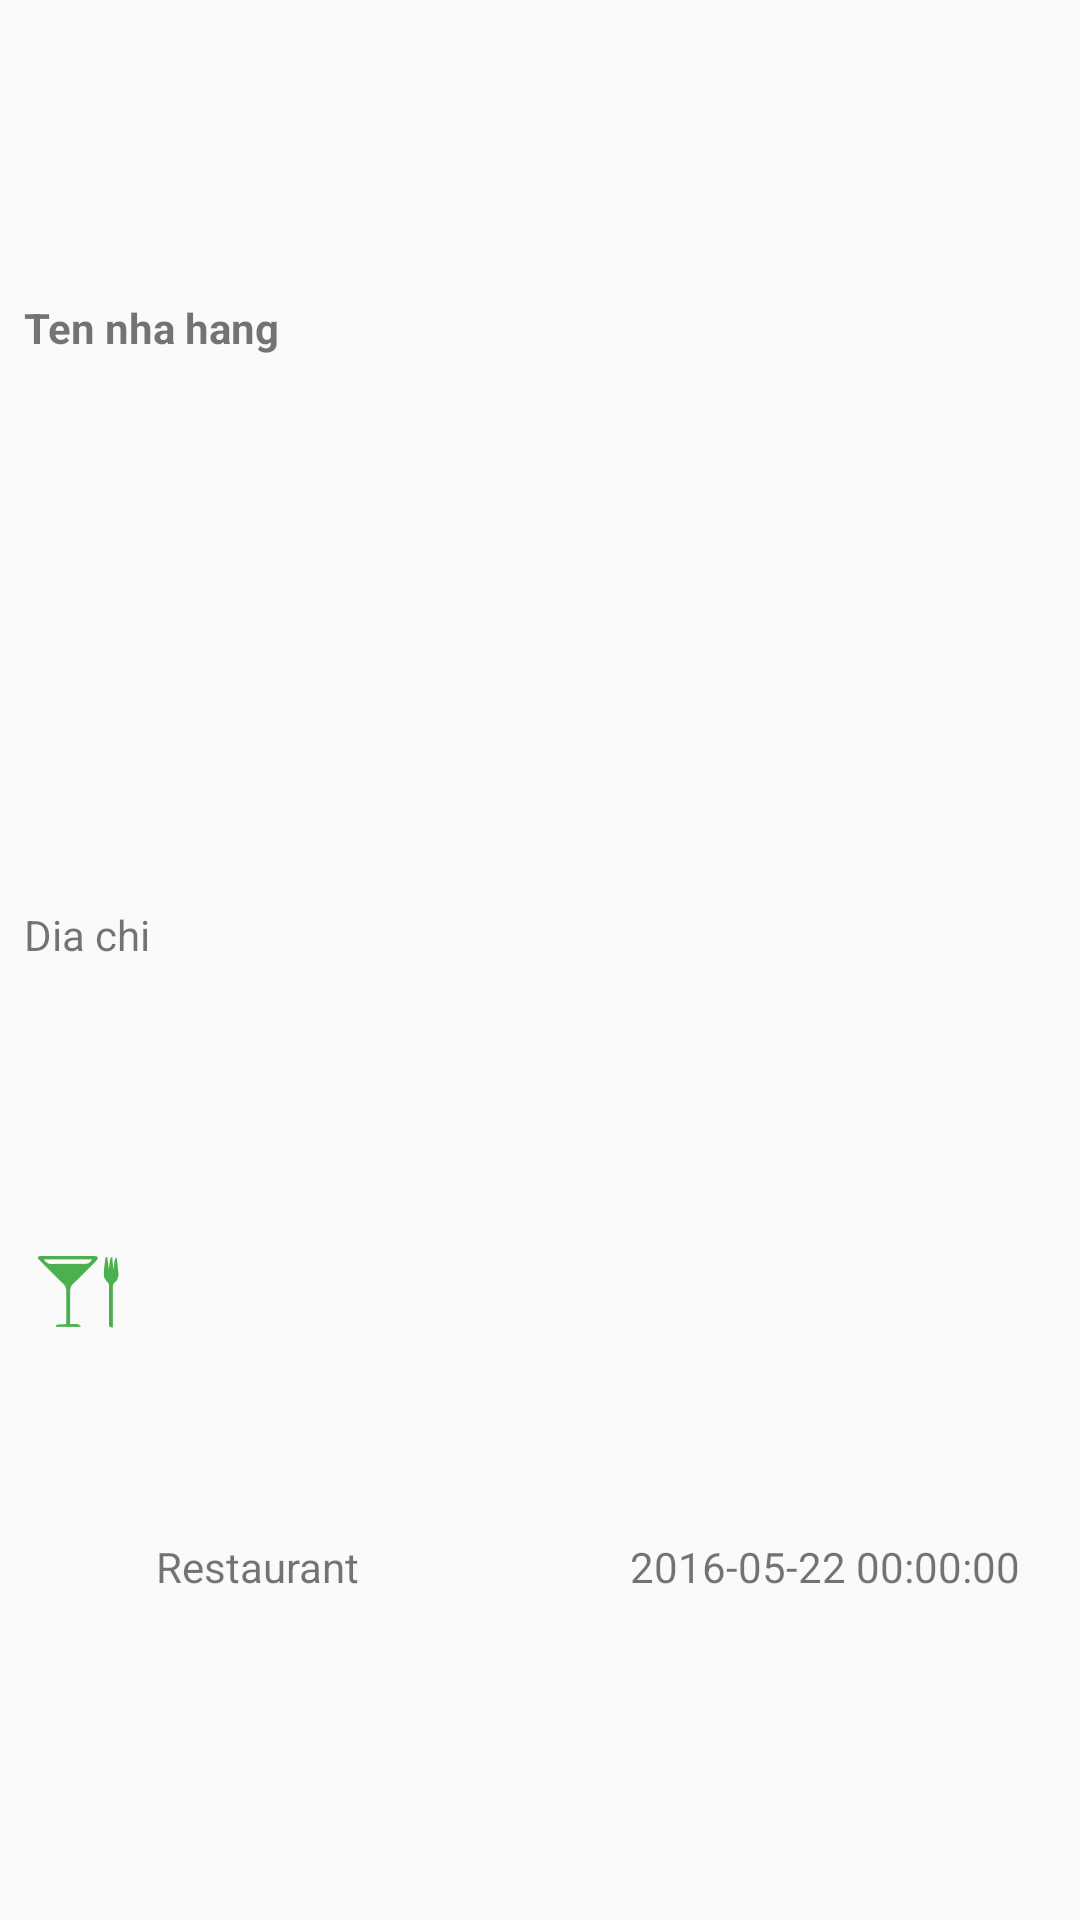

Locate icon controls on the screen. Image size 1080 × 1920, boxes as BBox(x1, y1, x2, y2).
category restaurant: BBox(38, 1256, 119, 1328)
